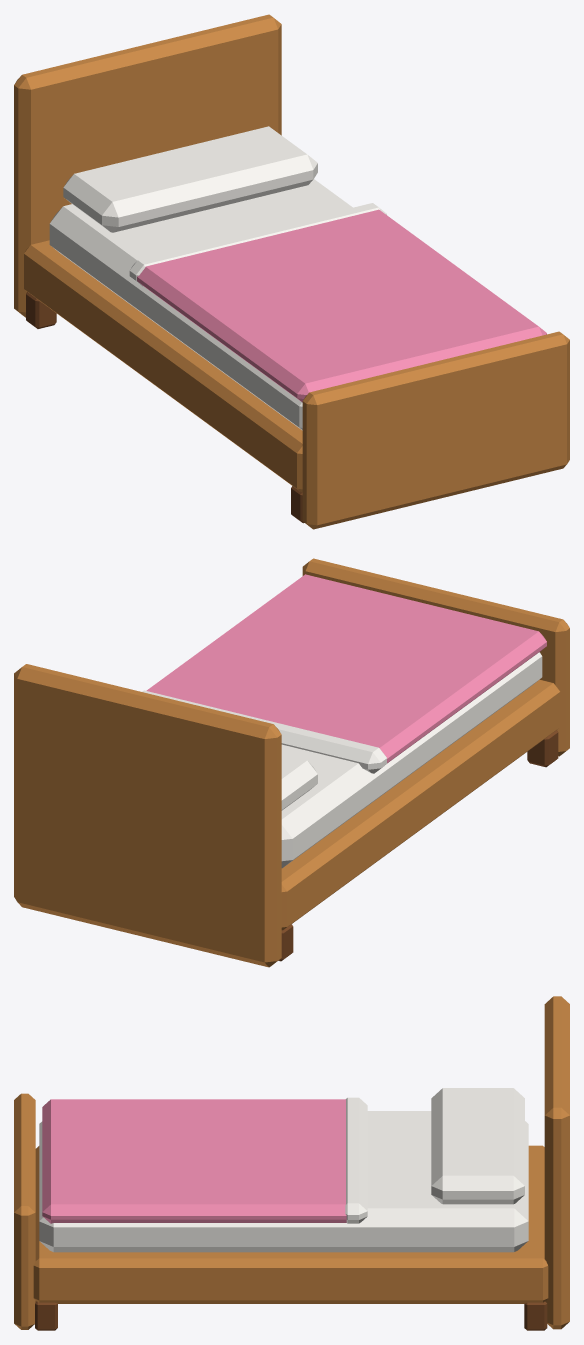
File: PinkBed.fbx
3 renders of one model, top to bottom at view 1: azimuth 30°, elevation 25°; view 2: azimuth 150°, elevation 25°; view 3: azimuth 270°, elevation 25°, orthographic. The views are drawn at different scales.
Parts seen in each view (by area): view 1: PinkBed; view 2: PinkBed; view 3: PinkBed.
Part boxes in pixels (x1,y1,x2,y2): PinkBed: (14, 14, 569, 529); PinkBed: (14, 558, 569, 967); PinkBed: (14, 996, 569, 1330).
Bounding box in the file's own units: 3.9 × 3.4 × 7.73.
Materials: 1 (1 with a texture image).
